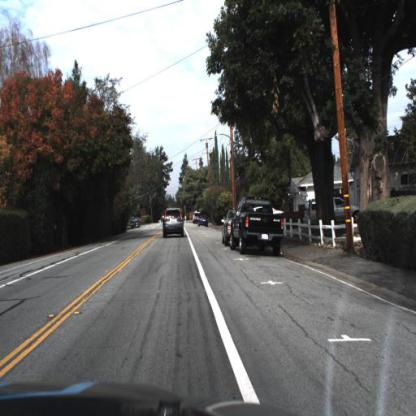car: (231, 200, 287, 260), (298, 190, 361, 226), (160, 199, 187, 244), (221, 201, 235, 249), (131, 211, 144, 229)
